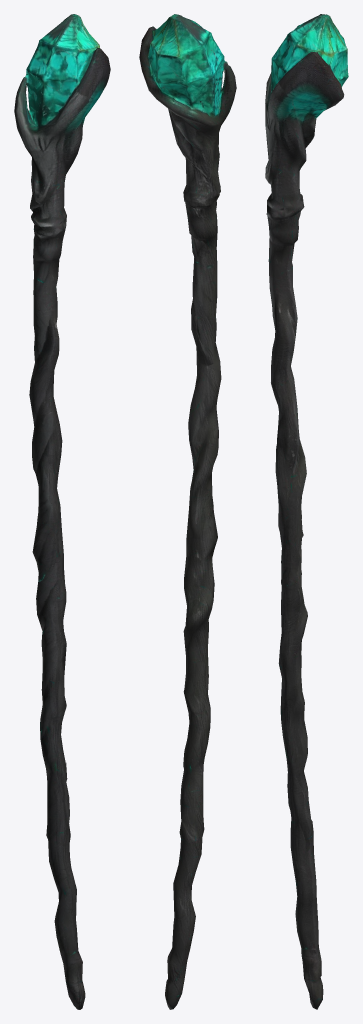
File: 1027_staff.glb
3 views of the same model, side by side, from view 1: azimuth 30°, elevation 25°; view 2: azimuth 210°, elevation 25°; view 3: azimuth 330°, elevation 25° (orthographic).
Visible parts, largest first — view 1: Model; view 2: Model; view 3: Model.
Boxes of the visible parts, bbox=[...] form: Model: bbox=[14, 14, 110, 1009]; Model: bbox=[139, 14, 236, 1009]; Model: bbox=[265, 14, 348, 1009].
Size of the model in its own units: 0.086 by 1 by 0.0761.
Materials: 1 (1 with a texture image).
